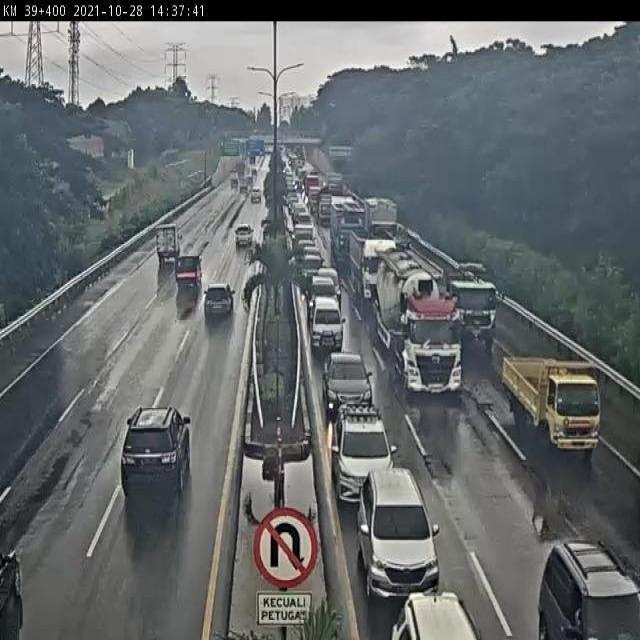big truck: (371, 242, 460, 394), (431, 250, 499, 338), (351, 229, 397, 303), (328, 192, 369, 268)
car: (533, 522, 639, 640), (356, 464, 442, 591), (115, 399, 203, 513), (331, 397, 393, 495), (391, 584, 481, 640), (316, 348, 376, 416), (311, 293, 347, 355), (193, 294, 236, 338), (171, 259, 201, 296), (229, 220, 256, 257), (293, 219, 319, 252), (305, 276, 337, 299), (298, 247, 326, 270)
small truck: (504, 341, 605, 459), (151, 223, 178, 268)
